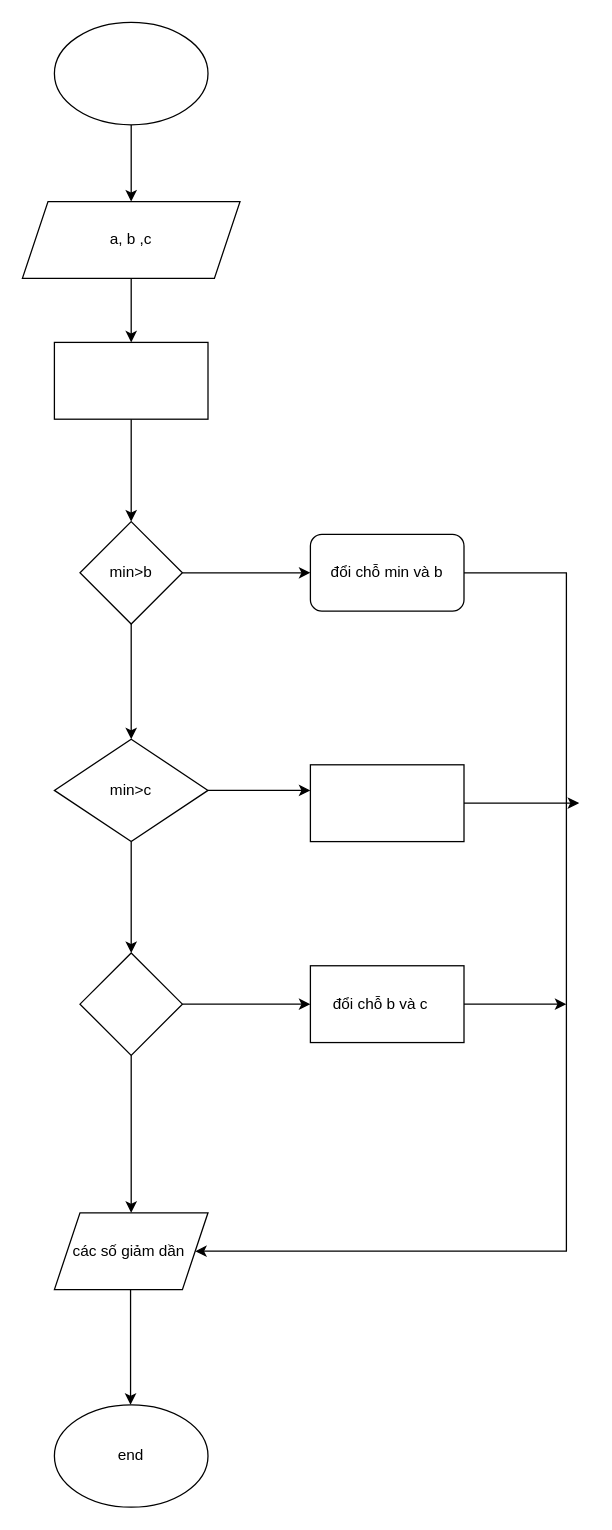
Image size: 612x1530. Some labels were removed from this diagram. Each missing label, with the box of its shape:
b > c: (79, 952, 182, 1055)
min = a: (53, 341, 208, 419)
start: (53, 21, 208, 125)
đổi chỗ min và c: (309, 764, 464, 842)
